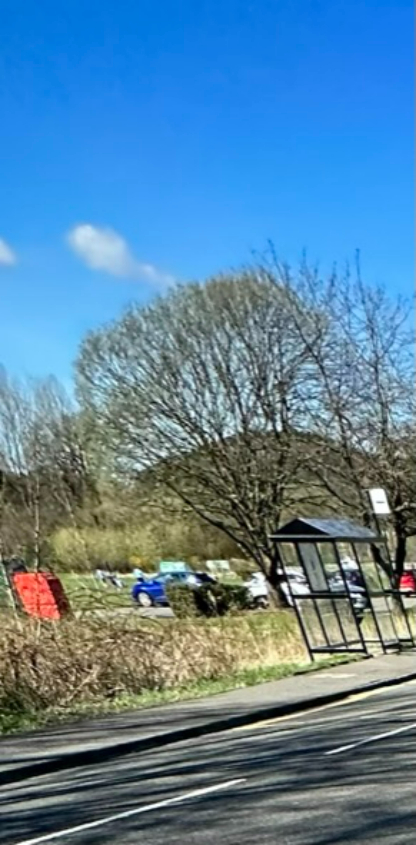car: (246, 574, 372, 615), (130, 559, 214, 611)
tree: (53, 262, 317, 564), (299, 233, 416, 568)
